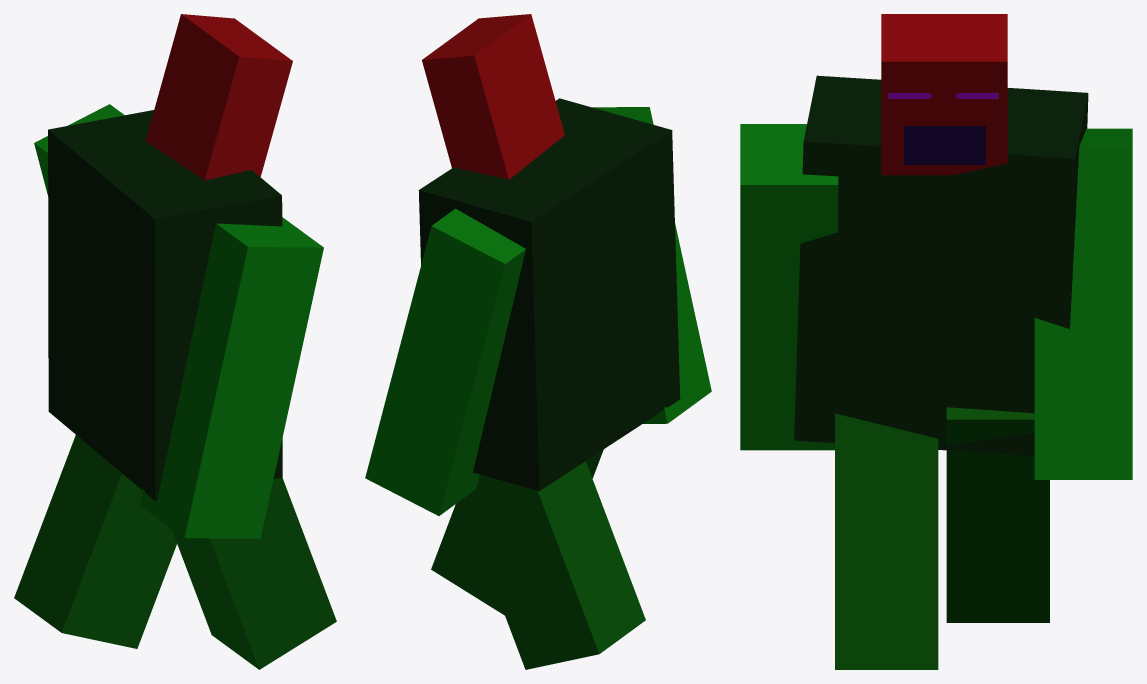
The model's file is walk_000024.obj.
3 views of the same model, side by side, from view 1: azimuth 30°, elevation 25°; view 2: azimuth 150°, elevation 25°; view 3: azimuth 270°, elevation 25° (orthographic). The views are drawn at different scales.
Visible parts, largest first — view 1: Cube, leg.002_Cube.006, leg_Cube.001, Cube.001_Cube.003, leg.001_Cube.007, leg.003_Cube.002; view 2: Cube, leg.003_Cube.002, leg_Cube.001, Cube.001_Cube.003, leg.002_Cube.006, leg.001_Cube.007; view 3: Cube, leg.003_Cube.002, leg.001_Cube.007, leg.002_Cube.006, leg_Cube.001, Cube.001_Cube.003, Plane.002.
Boxes of the visible parts, x1,y1,x2,y2 form: Cube: (48, 110, 282, 500); leg.002_Cube.006: (139, 217, 323, 538); leg_Cube.001: (14, 435, 176, 648); Cube.001_Cube.003: (145, 14, 292, 180); leg.001_Cube.007: (171, 477, 336, 669); leg.003_Cube.002: (34, 104, 124, 196); Cube: (418, 98, 680, 490); leg.003_Cube.002: (365, 208, 525, 515); leg_Cube.001: (461, 461, 645, 669); Cube.001_Cube.003: (422, 14, 564, 179); leg.002_Cube.006: (592, 107, 711, 423); leg.001_Cube.007: (431, 449, 603, 615); Cube: (794, 75, 1088, 455); leg.003_Cube.002: (1034, 128, 1132, 479); leg.001_Cube.007: (835, 413, 938, 669); leg.002_Cube.006: (740, 124, 838, 450); leg_Cube.001: (946, 407, 1049, 622); Cube.001_Cube.003: (881, 14, 1007, 175); Plane.002: (904, 126, 985, 164).
Bounding box in the file's own units: 2.48 × 6.32 × 3.47.
